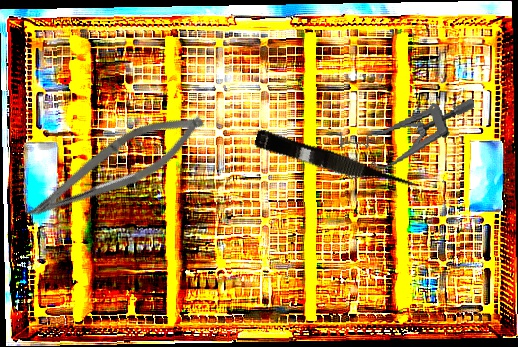Micro Scissor: (17, 94, 214, 244), (252, 128, 423, 201)
Speculum: (335, 96, 484, 181)
